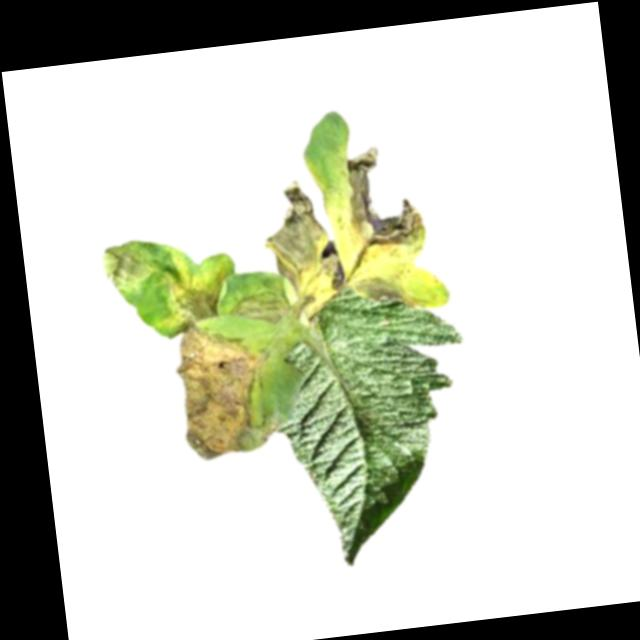Late_blight: (166, 320, 287, 463), (255, 176, 345, 320), (340, 139, 428, 257), (157, 249, 232, 335), (97, 237, 158, 297), (348, 271, 418, 317), (228, 289, 292, 335)
